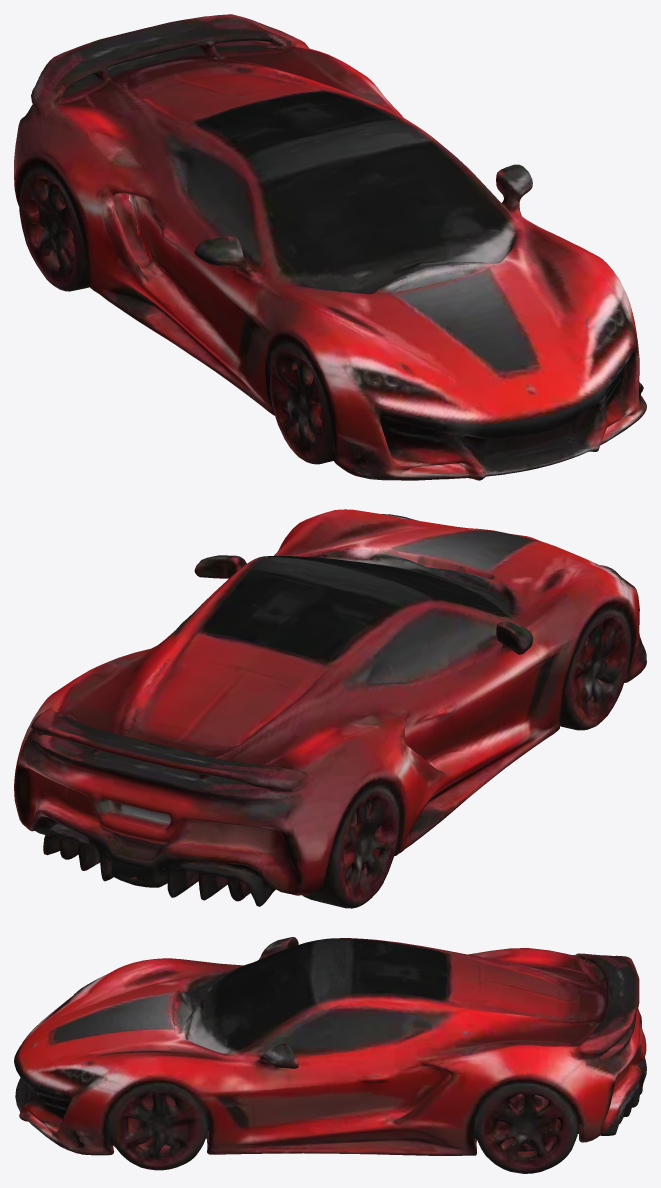
File: dk-meshy-red-sport-lite.glb
3 views of the same model, one above another, from view 1: azimuth 30°, elevation 25°; view 2: azimuth 150°, elevation 25°; view 3: azimuth 270°, elevation 25° (orthographic). The views are drawn at different scales.
Visible parts, largest first — view 1: Mesh_0; view 2: Mesh_0; view 3: Mesh_0.
Boxes of the visible parts, <box> form: Mesh_0: <box>14,14,646,480</box>; Mesh_0: <box>14,509,646,908</box>; Mesh_0: <box>14,937,646,1173</box>.
Size of the model in its own units: 0.9236 by 0.5324 by 2.
1 material, 1 textured.
